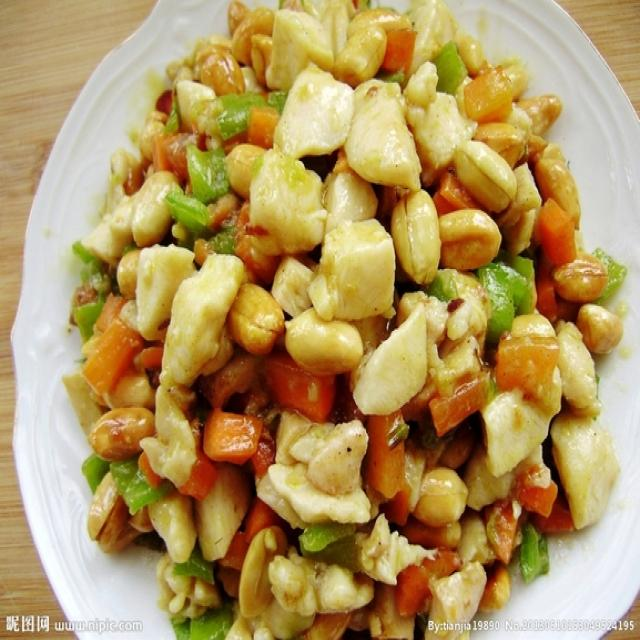鸡肉料理 含炸鸡: (33, 11, 628, 626)
